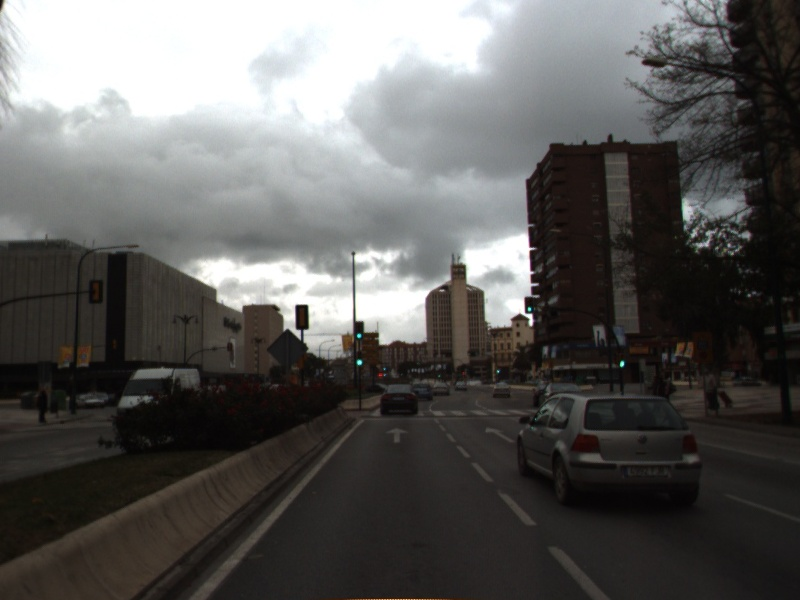STRAIGHT: (483, 424, 518, 444), (383, 425, 411, 445)
